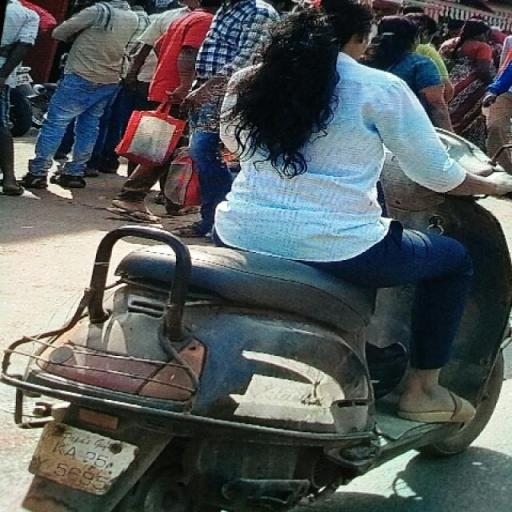bike: (3, 1, 512, 512)
withouthelmet: (295, 0, 370, 40)
